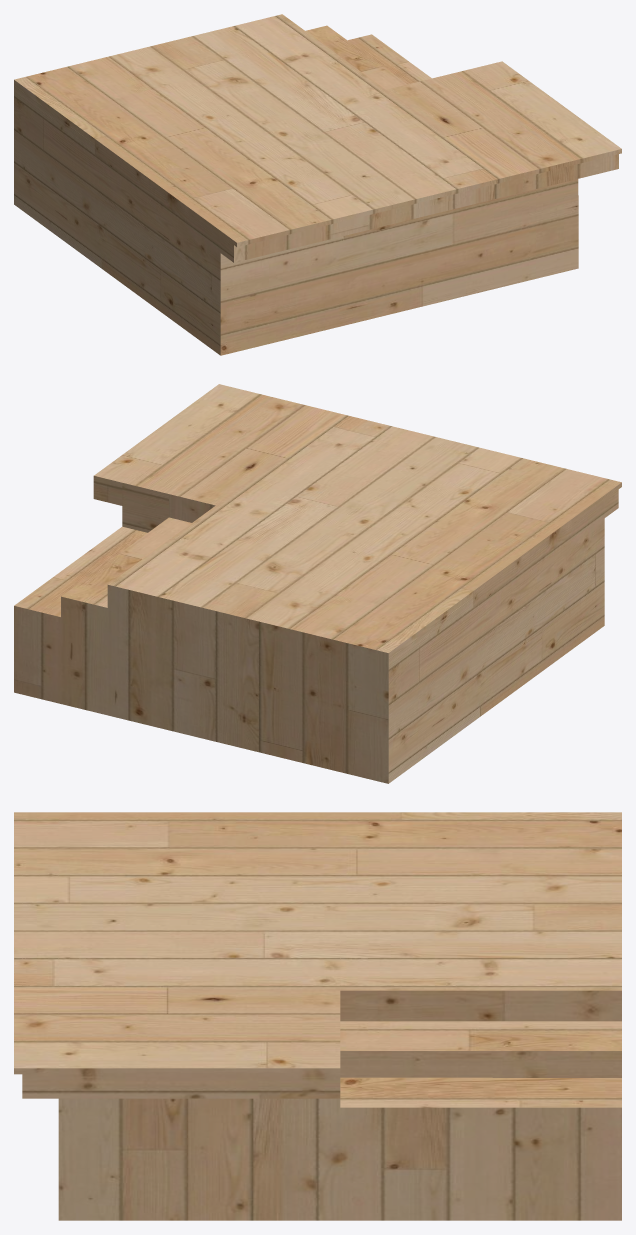
Rendered from Wooden Platform with Stairs.fbx.
3 views of the same model, one above another, from view 1: azimuth 30°, elevation 25°; view 2: azimuth 150°, elevation 25°; view 3: azimuth 270°, elevation 25° (orthographic). The views are drawn at different scales.
Visible parts, largest first — view 1: Wooden Platform with Stairs; view 2: Wooden Platform with Stairs; view 3: Wooden Platform with Stairs.
Boxes of the visible parts, left/top/right/bottom form: Wooden Platform with Stairs: left=14, top=14, right=621, bottom=355; Wooden Platform with Stairs: left=14, top=384, right=621, bottom=783; Wooden Platform with Stairs: left=14, top=812, right=621, bottom=1220.
Bounding box in the file's own units: 430 × 133 × 432.
